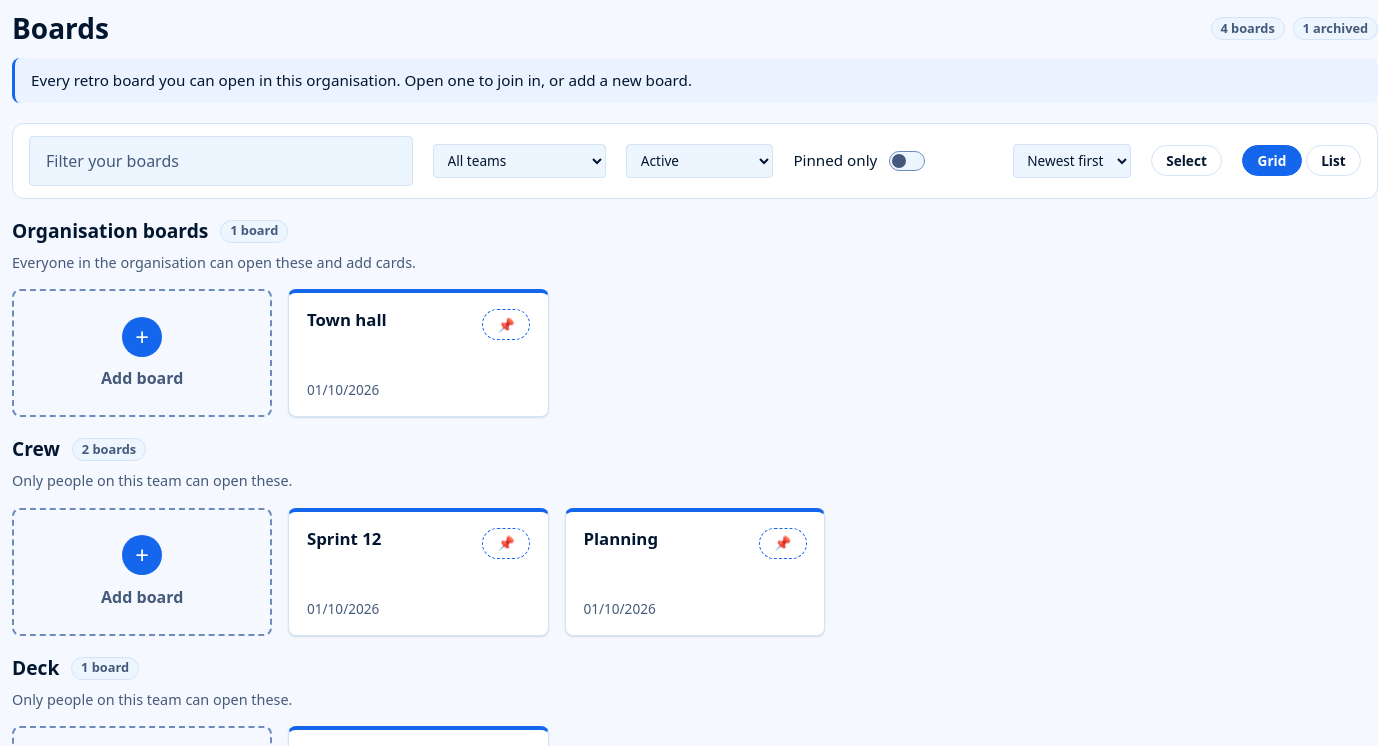
Scenario: OrgBoardsPage › lists the recently deleted boards in place of the sections
The width and height of the screenshot is (1378, 746).
Select "Recently deleted" in the dropdown named "Status" at (700,161), box [626,144,773,178]
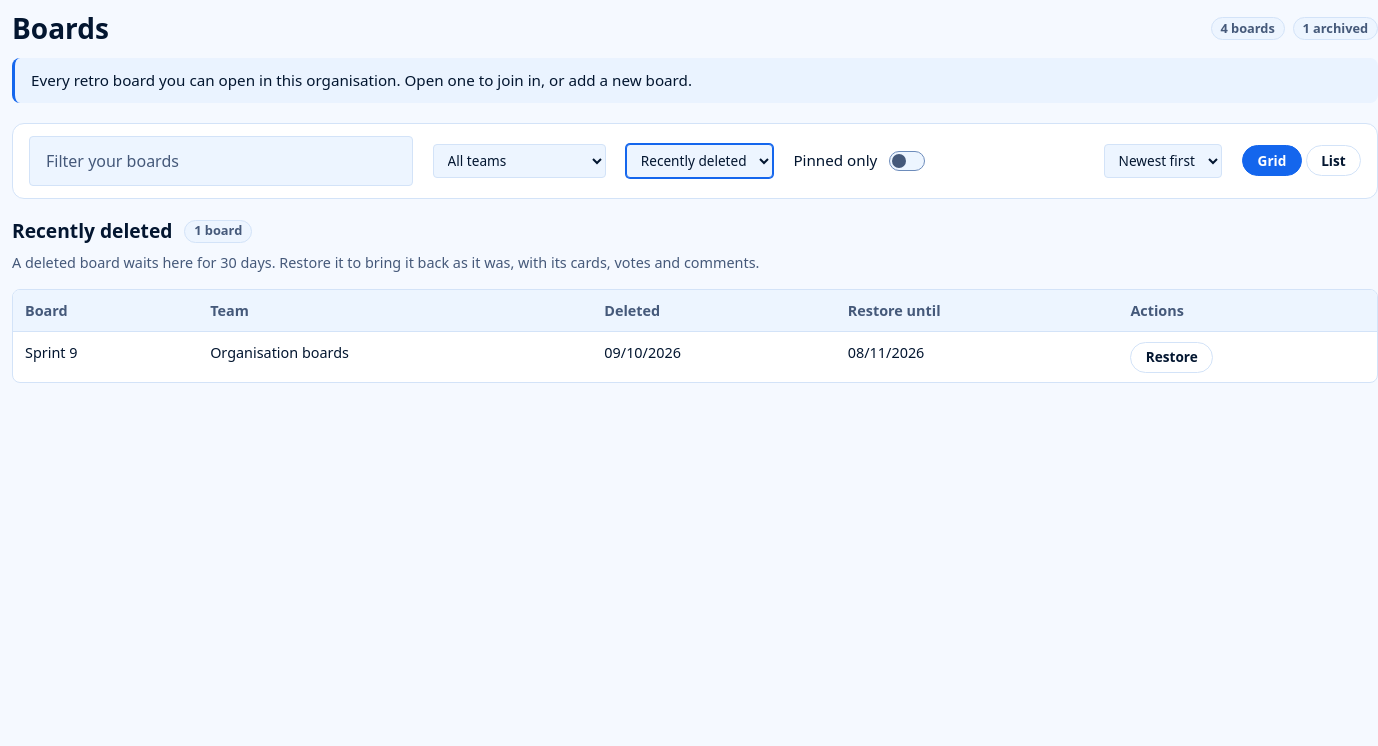
Now the button with aria-label "Restore Sprint 9" is shown, box [1130,342,1213,373]
Now the button "Select" is gone
